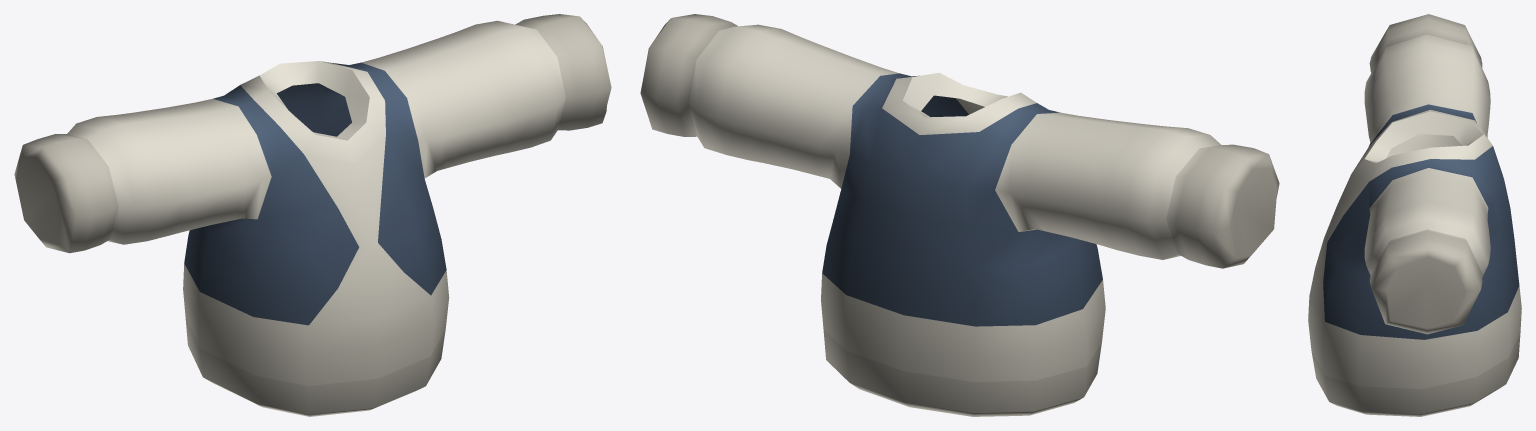
File: Top_53.fbx
The picture shows the model from 3 angles, left to right: view 1: azimuth 30°, elevation 25°; view 2: azimuth 150°, elevation 25°; view 3: azimuth 270°, elevation 25°; orthographic projection. The views are drawn at different scales.
Visible parts, largest first — view 1: Top_53; view 2: Top_53; view 3: Top_53.
Boxes of the visible parts, <box> form: Top_53: <box>14,14,611,416</box>; Top_53: <box>640,14,1279,416</box>; Top_53: <box>1308,14,1521,416</box>.
Size of the model in its own units: 98 by 49.7 by 37.16.
